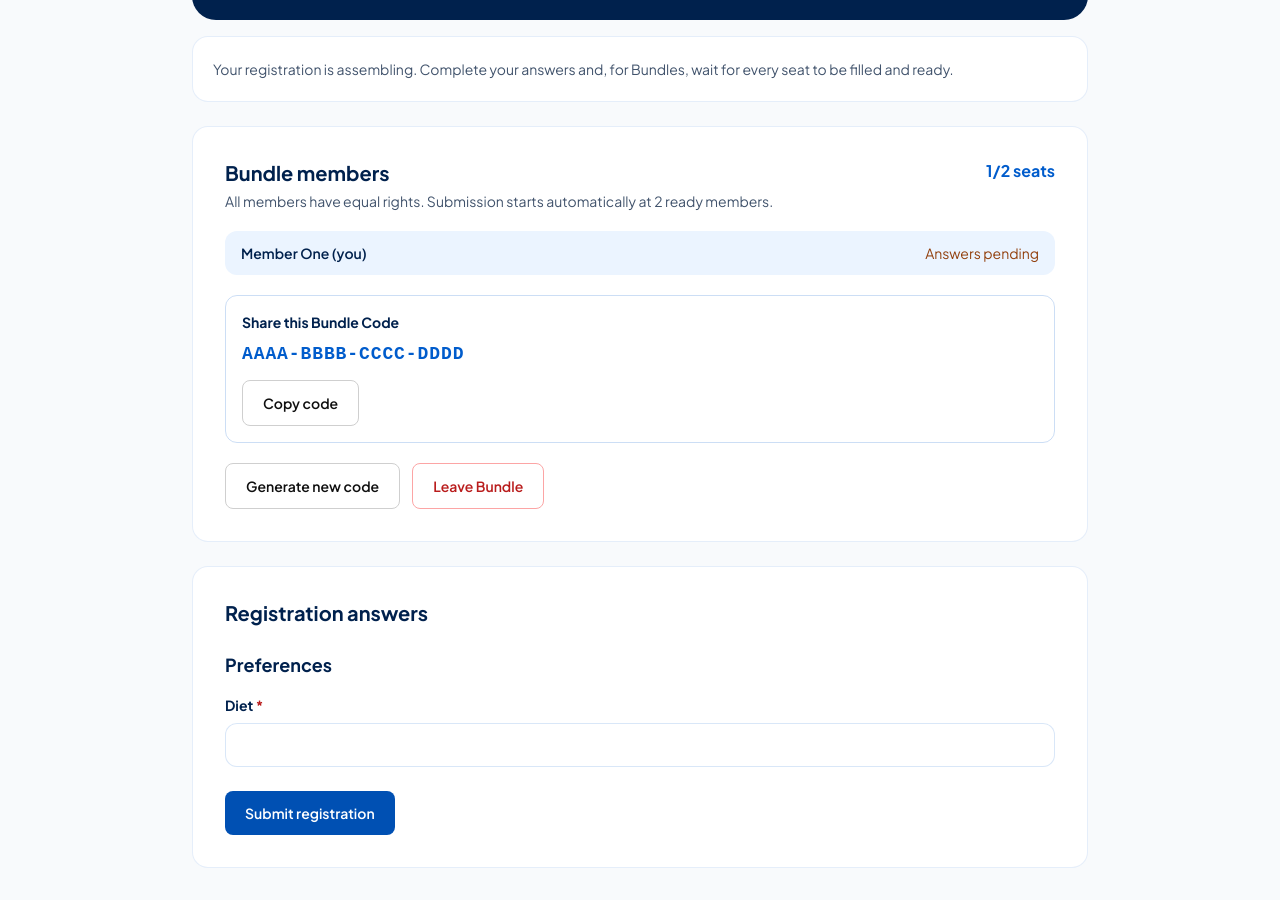
Test: keeps typed answers through another member joining, saving and a revision conflict
(page scrolled)
Type "Vegetarian" into the field named "Diet". click: x=640, y=745
box: [225,723,1055,767]
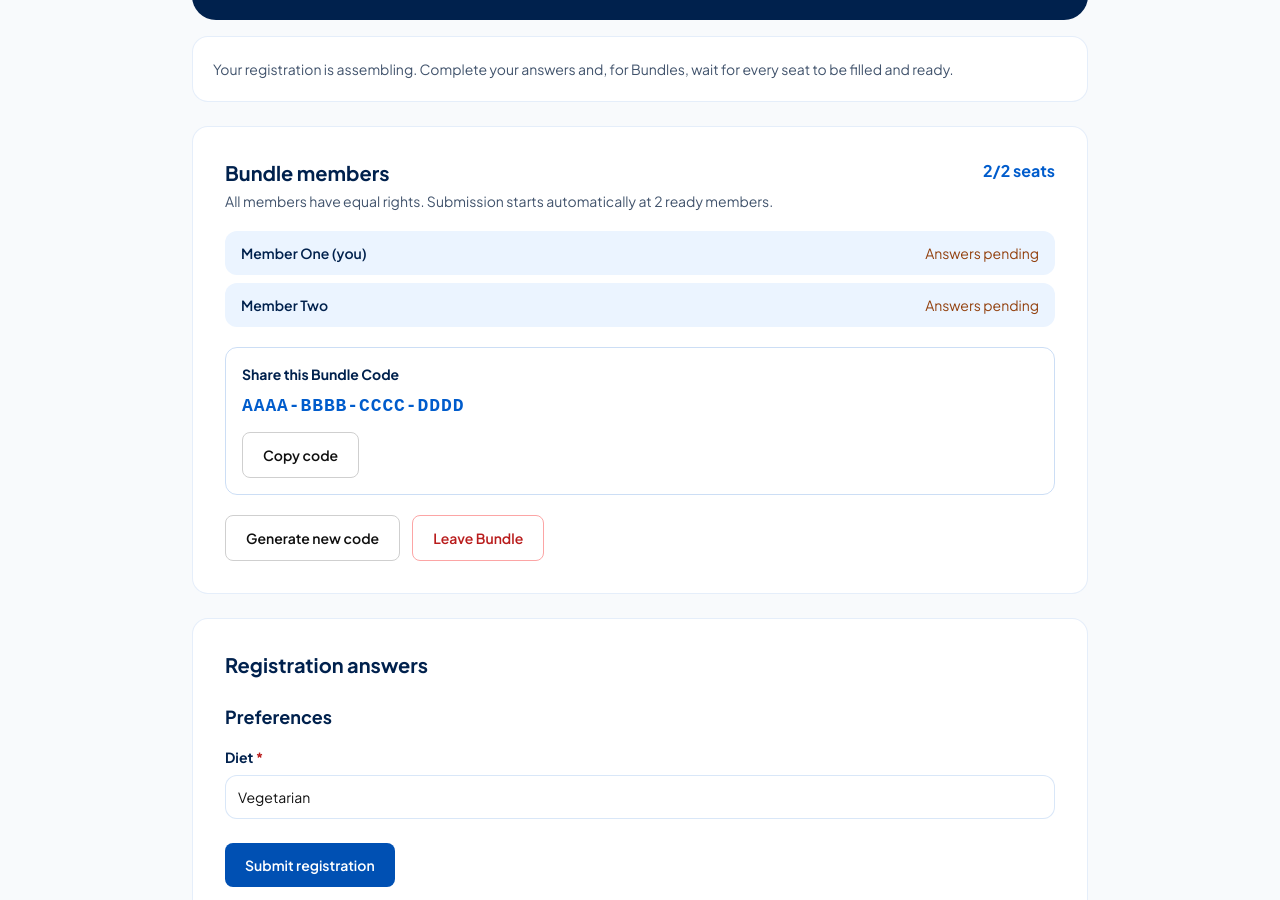
expect the text "Member Two" is shown: met, box [241,295,328,315]
Replace the text in the field named "Diet" with "Vegetarian, no nuts". click: x=640, y=797
box: [225,775,1055,819]
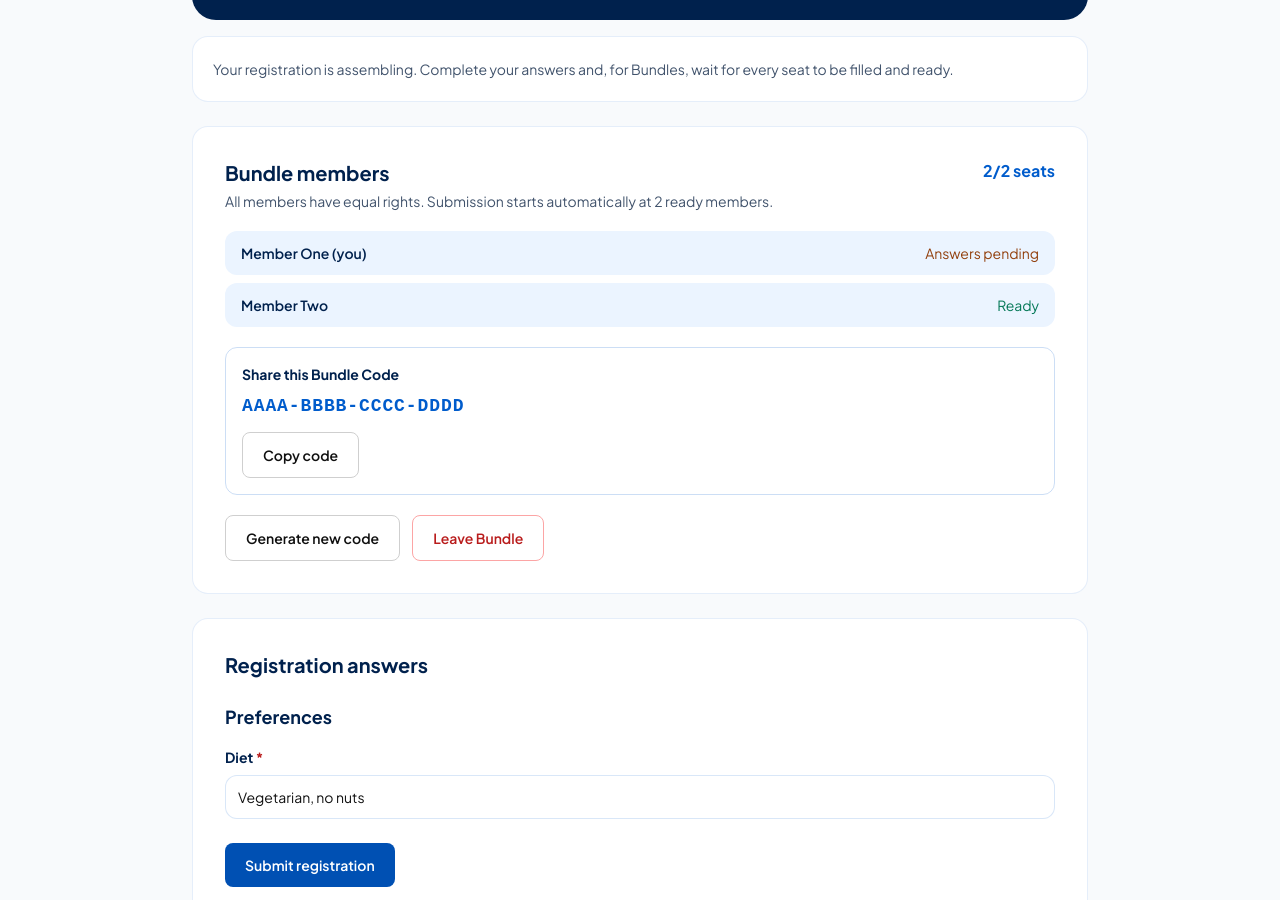
expect the text "Ready" is shown: met, box [997,295,1039,315]
Click the button "Submit registration". click: x=310, y=865
box: [225,843,395,887]
(page scrolled)
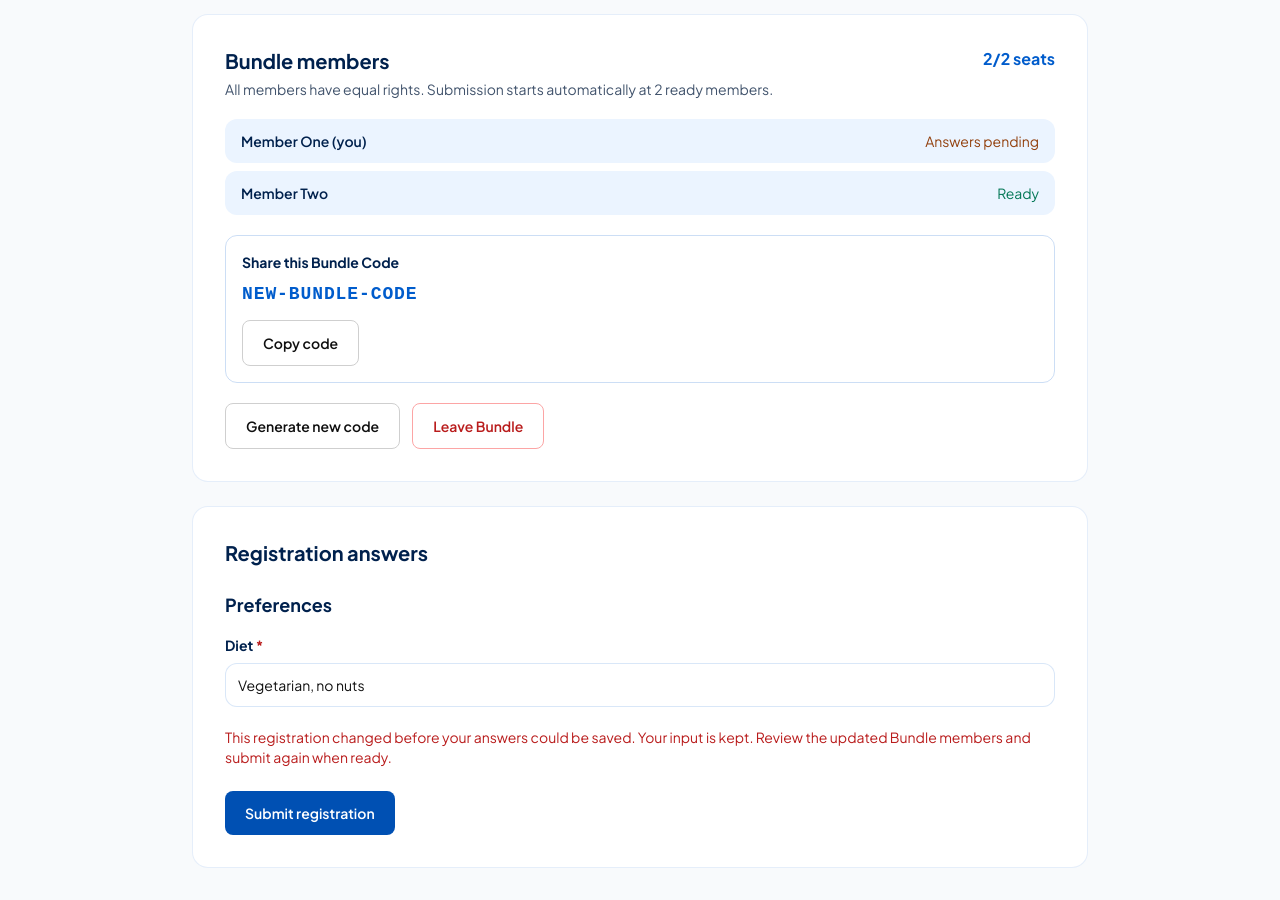
expect the message shows "input is kept": met, box [225,728,1031,766]
expect the text "NEW-BUNDLE-CODE" is shown: met, box [242,284,418,304]
Click the button "Submit registration". click: x=310, y=813
box: [225,791,395,835]
(page scrolled)
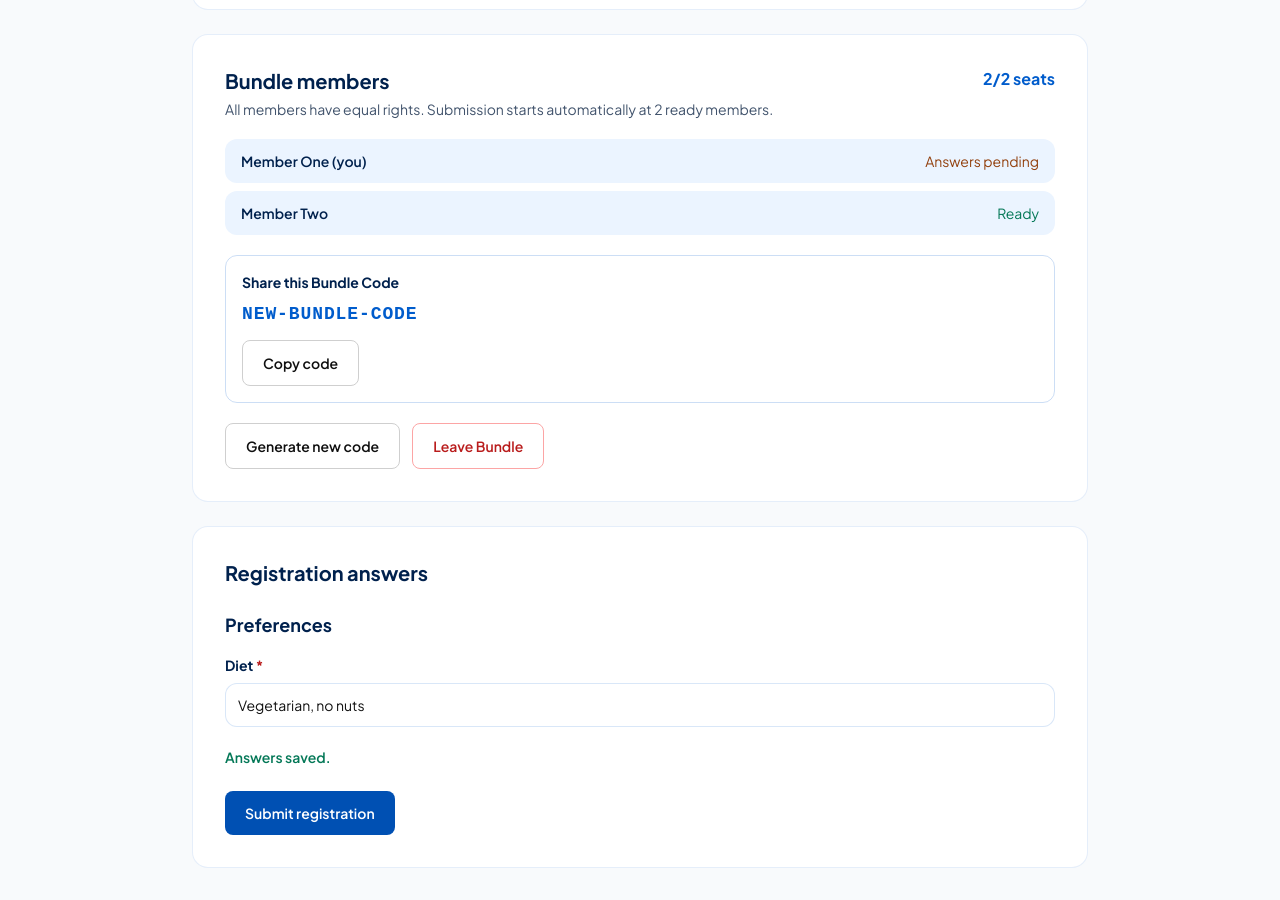
expect the message reads "Answers saved.": met, box [225,748,330,766]
